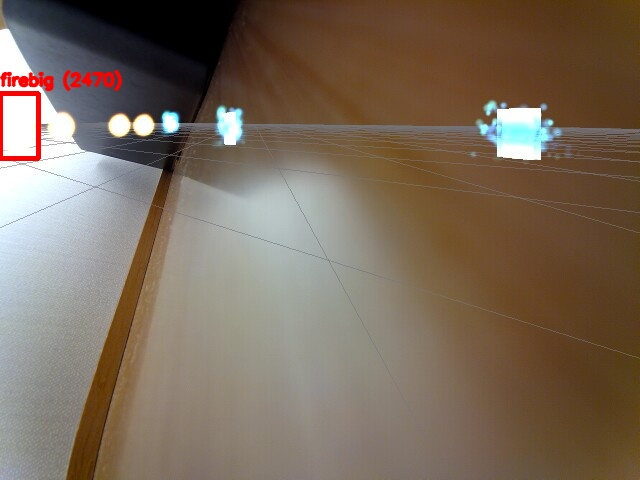firebig: (0, 93, 38, 158)
